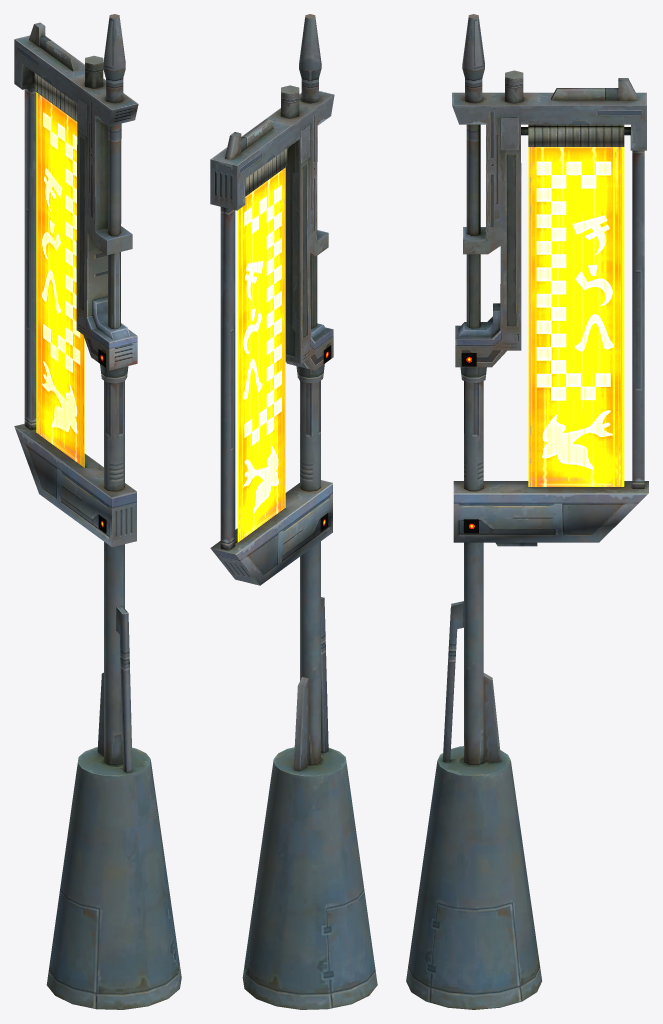
The model's file is all_item_taxi_holo_sign.glb.
3 views of the same model, side by side, from view 1: azimuth 30°, elevation 25°; view 2: azimuth 150°, elevation 25°; view 3: azimuth 270°, elevation 25° (orthographic).
Parts seen in each view (by area): view 1: all_item_taxi_holo_sign; view 2: all_item_taxi_holo_sign; view 3: all_item_taxi_holo_sign.
Boxes of the visible parts, x1=… form: all_item_taxi_holo_sign: x1=14, y1=14, x2=181, y2=1009; all_item_taxi_holo_sign: x1=210, y1=14, x2=377, y2=1009; all_item_taxi_holo_sign: x1=406, y1=14, x2=648, y2=1009.
Bounding box in the file's own units: 0.1152 × 0.9006 × 0.2054.
Materials: 2 (2 with a texture image).
